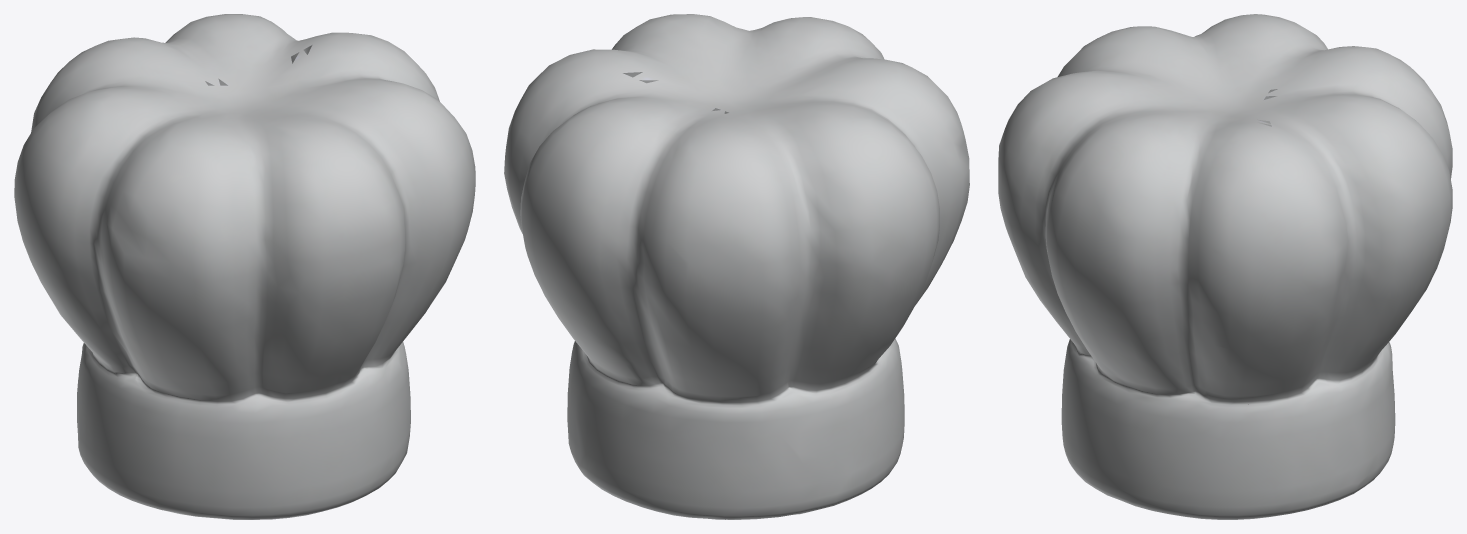
File: hat_chef.glb
3 views of the same model, side by side, from view 1: azimuth 30°, elevation 25°; view 2: azimuth 150°, elevation 25°; view 3: azimuth 270°, elevation 25° (orthographic).
Parts seen in each view (by area): view 1: geometry_0; view 2: geometry_0; view 3: geometry_0.
Boxes of the visible parts, x1,y1,x2,y2 form: geometry_0: (14, 14, 475, 519); geometry_0: (504, 14, 969, 519); geometry_0: (998, 14, 1452, 519).
Bounding box in the file's own units: 0.9487 × 0.8467 × 0.9277.
Materials: 1 (1 with a texture image).
